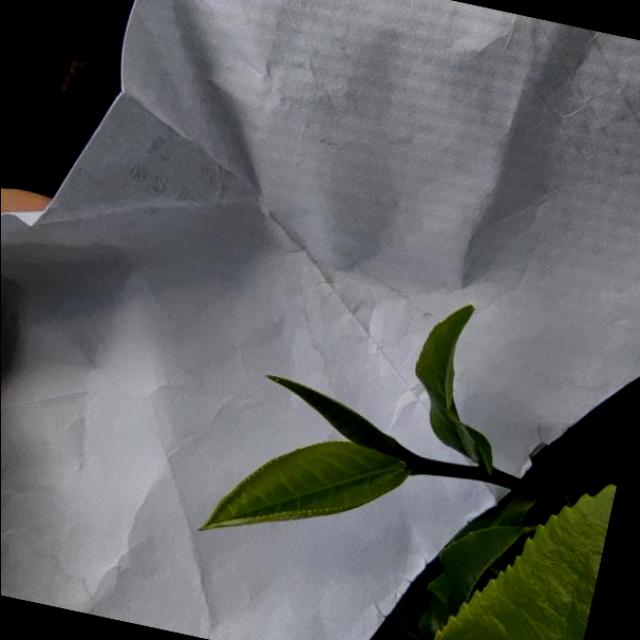Stem: (418, 460, 439, 474)
